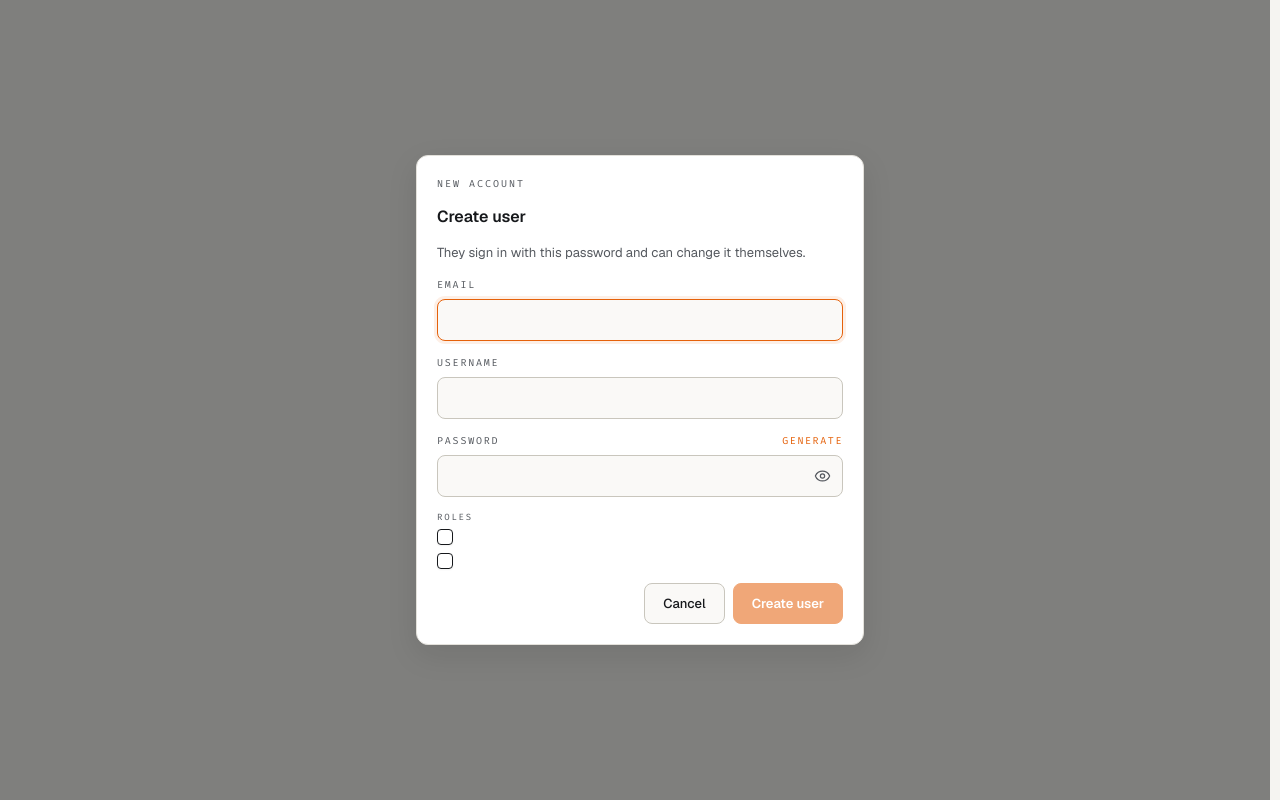
Scenario: CreateUserDialog › tells the user to copy the generated password by hand when the clipboard refuses
Click the button "Generate". click: [813, 441]
box: [782, 433, 843, 448]
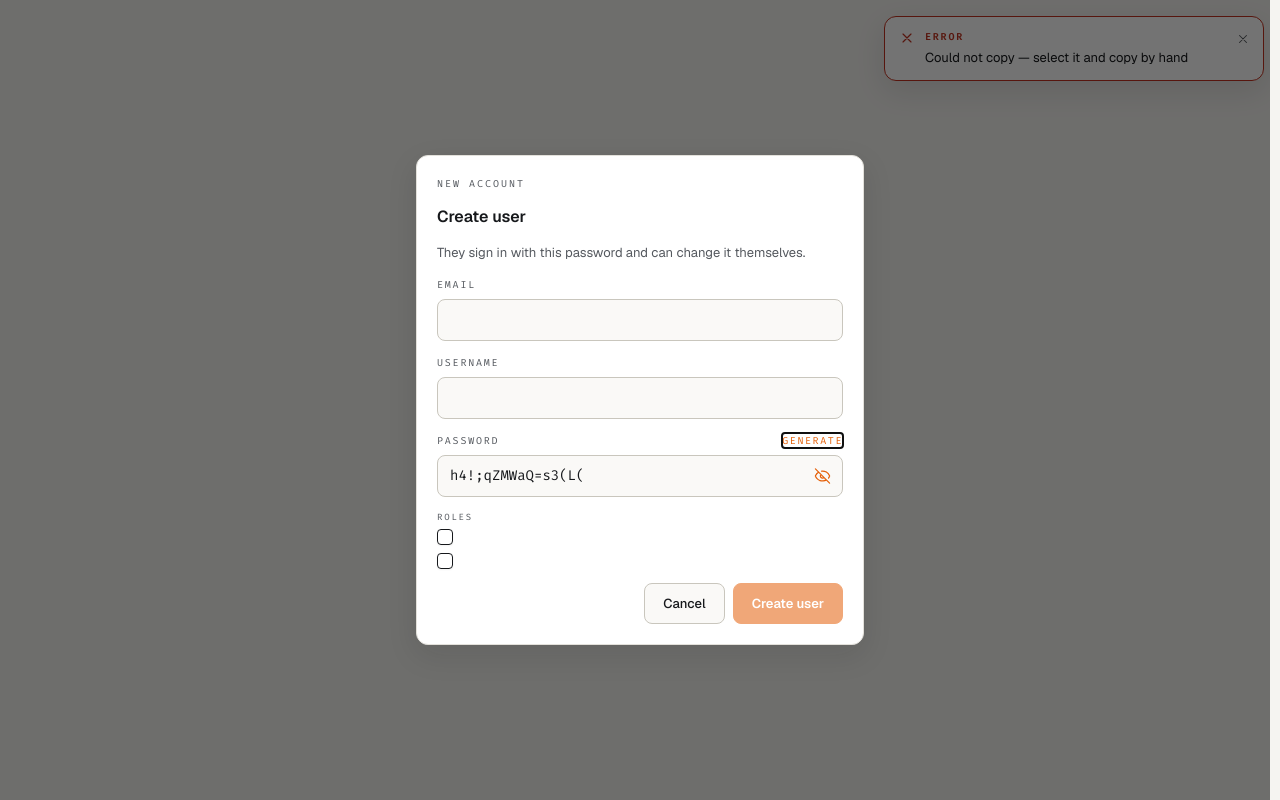
Check: the text "Could not copy — select it and copy by hand" is shown, box [925, 49, 1221, 68]
